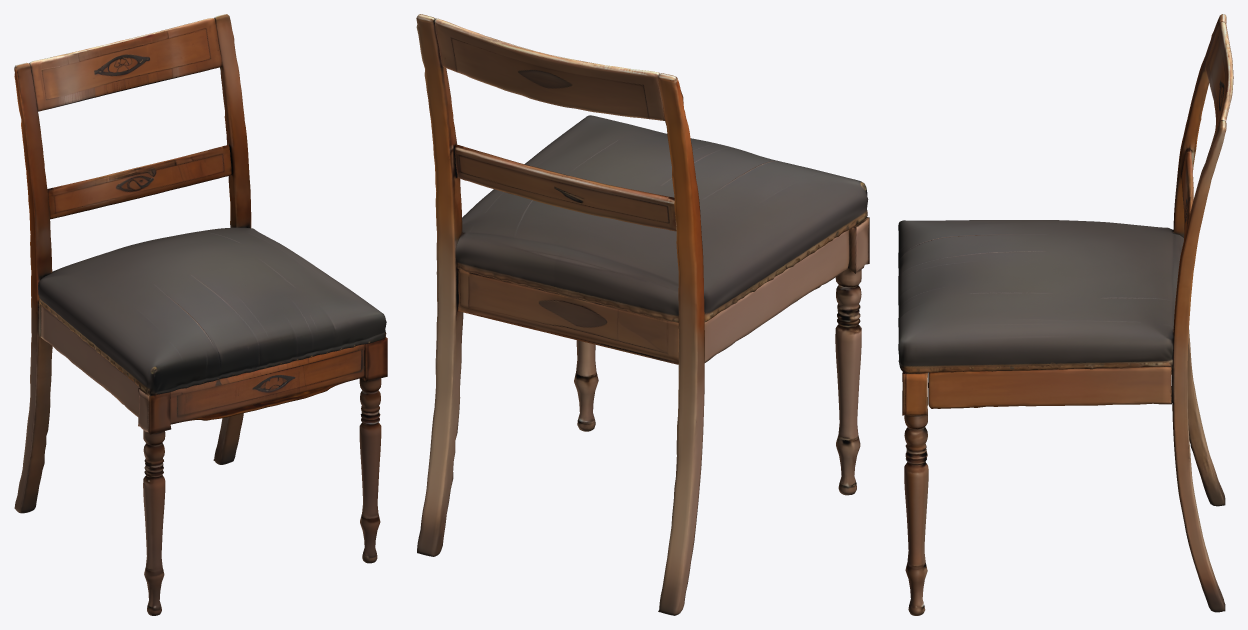
3 renders of one model, left to right at view 1: azimuth 30°, elevation 25°; view 2: azimuth 150°, elevation 25°; view 3: azimuth 270°, elevation 25°, orthographic. The views are drawn at different scales.
Visible parts, largest first — view 1: root.0, root.3, root.2, root.4, root.10, root.1, root.8, root.9, root.6; view 2: root.0, root.2, root.1, root.3, root.7, root.10, root.8, root.6, root.9; view 3: root.0, root.5, root.1, root.9, root.2, root.3, root.10.
Boxes of the visible parts, x1,y1,x2,y2 form: root.0: (38, 227, 386, 394); root.3: (29, 18, 221, 111); root.2: (14, 62, 52, 513); root.4: (170, 344, 364, 424); root.10: (47, 145, 231, 219); root.1: (213, 14, 251, 464); root.8: (138, 388, 171, 615); root.9: (359, 337, 387, 563); root.6: (40, 304, 139, 417); root.0: (455, 115, 868, 322); root.2: (658, 73, 704, 615); root.1: (416, 14, 463, 556); root.3: (434, 18, 664, 120); root.7: (457, 269, 678, 364); root.10: (454, 145, 676, 231); root.8: (835, 217, 869, 495); root.6: (704, 230, 849, 362); root.9: (574, 340, 598, 431); root.0: (898, 220, 1183, 372); root.5: (928, 366, 1171, 408); root.1: (1172, 120, 1226, 612); root.9: (902, 371, 928, 615); root.2: (1173, 14, 1226, 506); root.3: (1205, 22, 1233, 143); root.10: (1181, 148, 1193, 239).
Size of the model in its own units: 0.4484 by 0.798 by 0.4977.
Materials: 11 (11 with a texture image).
